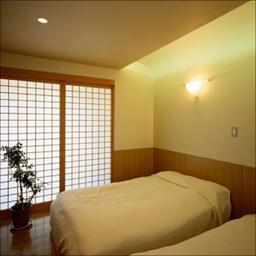Cama: (50, 173, 231, 250), (136, 213, 250, 255)
Matera: (3, 140, 43, 233)
Puerta: (62, 82, 112, 186)
